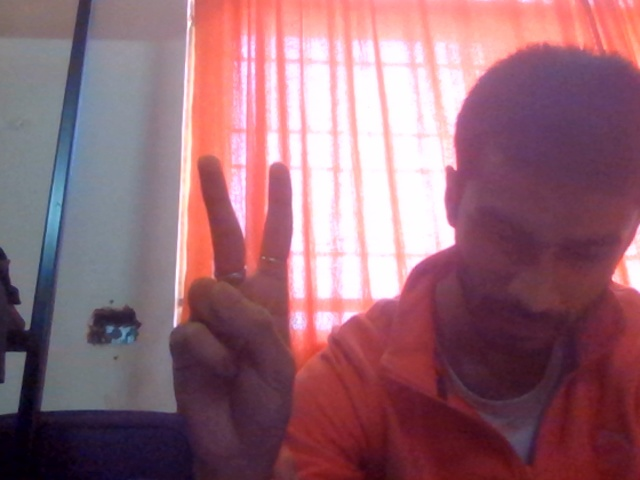V: (127, 143, 369, 480)
